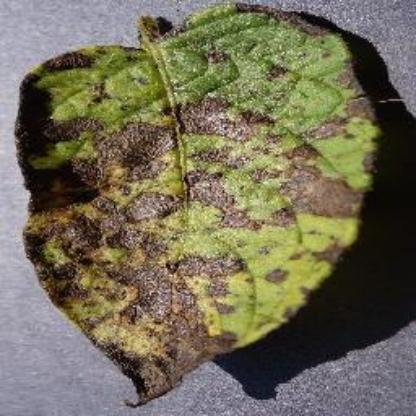Early-Blight: (14, 1, 382, 406)
